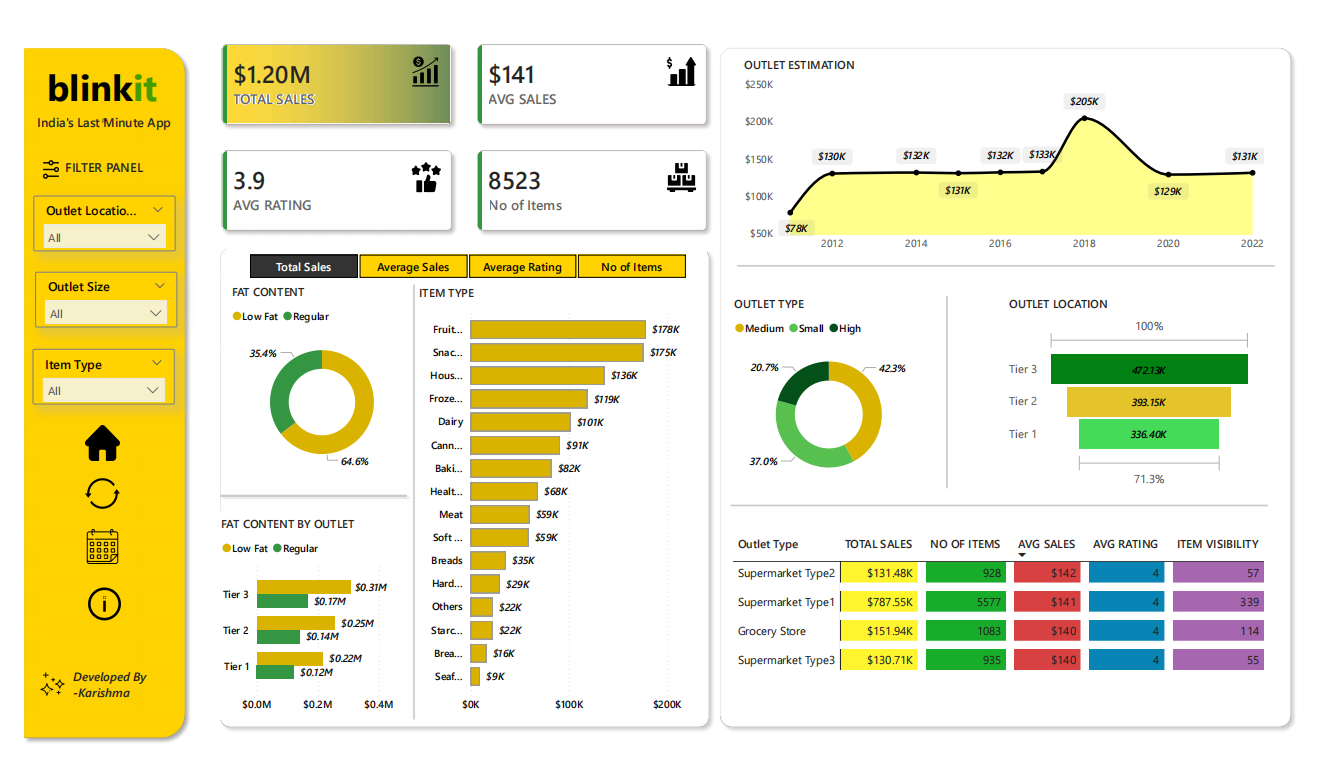

What the dashboard file says about the page in this screenshot:
{"tool":"powerbi","page":{"name":"Blinkit_Dashboard","canvas":[1500,850],"ordinal":0},"visuals":[{"type":"shape","box":[0,27.4,205,822.9],"z":0},{"type":"textbox","box":[10.1,46.2,180.5,70.7],"z":1000},{"type":"textbox","box":[20.2,106.8,184.8,41.9],"z":2000},{"type":"cardVisual","fields":{"Data":["BlinkIT Grocery Data.Total Sales","BlinkIT Grocery Data.Average Sales","BlinkIT Grocery Data.Average Rating","BlinkIT Grocery Data.No of Items"]},"box":[212.2,2.9,622.2,270],"z":3000},{"type":"shape","box":[229.5,261.3,587.6,576],"z":4000},{"type":"donutChart","title":"FAT CONTENT","fields":{"Y":["BlinkIT Grocery Data.Total Sales"],"Category":["BlinkIT Grocery Data.Item Fat Content"]},"box":[247.3,311.1,220.1,229.6],"z":5000},{"type":"slicer","fields":{"Values":["Metrics 2.Metrics"]},"box":[246.9,270,558.7,40.4],"z":6000},{"type":"clusteredBarChart","title":"FAT CONTENT BY OUTLET","fields":{"Y":["BlinkIT Grocery Data.Total Sales"],"Category":["BlinkIT Grocery Data.Outlet Location Type"],"Series":["BlinkIT Grocery Data.Item Fat Content"]},"box":[235.3,577.4,220.9,242.5],"z":7000},{"type":"shape","box":[229.5,550,235.3,11.5],"z":8000},{"type":"barChart","title":"ITEM TYPE","fields":{"Y":["BlinkIT Grocery Data.Total Sales"],"Category":["BlinkIT Grocery Data.Item Type"]},"box":[466.3,311.8,339.3,508.2],"z":9000},{"type":"shape","box":[430.2,311.8,69.3,508.2],"z":10000},{"type":"shape","box":[814.2,27.4,682.8,809.9],"z":11000},{"type":"lineChart","title":"OUTLET ESTIMATION","fields":{"Category":["BlinkIT Grocery Data.Outlet Establishment Year"],"Y":["BlinkIT Grocery Data.Total Sales"]},"box":[846,46.2,616.4,235.3],"z":12000},{"type":"shape","box":[841.6,282.9,628,14.4],"z":13000},{"type":"donutChart","title":"OUTLET TYPE","fields":{"Y":["BlinkIT Grocery Data.Total Sales"],"Category":["BlinkIT Grocery Data.Outlet Size"]},"box":[834.4,324.8,229.5,231],"z":14000},{"type":"funnel","title":"OUTLET LOCATION","fields":{"Y":["Sum(BlinkIT Grocery Data.Sales)"],"Category":["BlinkIT Grocery Data.Outlet Location Type"]},"box":[1154.9,324.8,293.1,229.5],"z":15000},{"type":"pivotTable","fields":{"Rows":["BlinkIT Grocery Data.Outlet Type"],"Values":["BlinkIT Grocery Data.Total Sales","BlinkIT Grocery Data.No of Items","BlinkIT Grocery Data.Average Sales","BlinkIT Grocery Data.Average Rating","Sum(BlinkIT Grocery Data.Item Visibility)"]},"box":[833,597.7,646.7,203.6],"z":16000},{"type":"shape","box":[1052.4,324.8,69.3,225.2],"z":17000},{"type":"shape","box":[834.4,563,628,14.4],"z":18000},{"type":"slicer","fields":{"Values":["BlinkIT Grocery Data.Outlet Location Type"]},"box":[20.2,207.9,166,65],"z":19000},{"type":"slicer","fields":{"Values":["BlinkIT Grocery Data.Outlet Size"]},"box":[21.7,297.4,166,65],"z":20000},{"type":"slicer","fields":{"Values":["BlinkIT Grocery Data.Item Type"]},"box":[18.8,386.9,166,65],"z":21000},{"type":"textbox","box":[53.4,158.8,118.4,39],"z":22000},{"type":"actionButton","box":[78,659.7,50.5,50.5],"z":23000},{"type":"image","box":[80.8,476.4,40.4,40.4],"z":24000},{"type":"image","box":[80.8,535.6,40.4,40.4],"z":25000},{"type":"image","box":[80.8,597.7,40.4,40.4],"z":26000},{"type":"textbox","box":[62.1,755,119.8,65],"z":27000},{"type":"image","box":[21.7,760.8,40.4,35],"z":28000},{"type":"image","box":[99.6,99.6,5.8,40.4],"z":29000},{"type":"image","box":[20.2,164.6,40.4,25],"z":30000}]}

Visuals, with their boxes in screenshot pixels (x1, y1, x2, y2), scaled from the page's 1500x850 canvas onto the 1320x761 screenshot:
shape: locate(0, 25, 180, 760)
textbox: locate(9, 41, 168, 105)
textbox: locate(18, 96, 180, 133)
cardVisual - BlinkIT Grocery Data.Total Sales x BlinkIT Grocery Data.Average Sales: locate(187, 3, 734, 244)
shape: locate(202, 234, 719, 750)
"FAT CONTENT" donutChart: locate(218, 279, 411, 484)
slicer - Metrics 2.Metrics: locate(217, 242, 709, 278)
"FAT CONTENT BY OUTLET" clusteredBarChart: locate(207, 517, 401, 734)
shape: locate(202, 492, 409, 503)
"ITEM TYPE" barChart: locate(410, 279, 709, 734)
shape: locate(379, 279, 440, 734)
shape: locate(716, 25, 1317, 750)
"OUTLET ESTIMATION" lineChart: locate(744, 41, 1287, 252)
shape: locate(741, 253, 1293, 266)
"OUTLET TYPE" donutChart: locate(734, 291, 936, 498)
"OUTLET LOCATION" funnel: locate(1016, 291, 1274, 496)
pivotTable - BlinkIT Grocery Data.Outlet Type x BlinkIT Grocery Data.Total Sales: locate(733, 535, 1302, 717)
shape: locate(926, 291, 987, 492)
shape: locate(734, 504, 1287, 517)
slicer - BlinkIT Grocery Data.Outlet Location Type: locate(18, 186, 164, 244)
slicer - BlinkIT Grocery Data.Outlet Size: locate(19, 266, 165, 324)
slicer - BlinkIT Grocery Data.Item Type: locate(17, 346, 163, 405)
textbox: locate(47, 142, 151, 177)
actionButton: locate(69, 591, 113, 636)
image: locate(71, 427, 107, 463)
image: locate(71, 480, 107, 516)
image: locate(71, 535, 107, 571)
textbox: locate(55, 676, 160, 734)
image: locate(19, 681, 55, 712)
image: locate(88, 89, 93, 125)
image: locate(18, 147, 53, 170)
